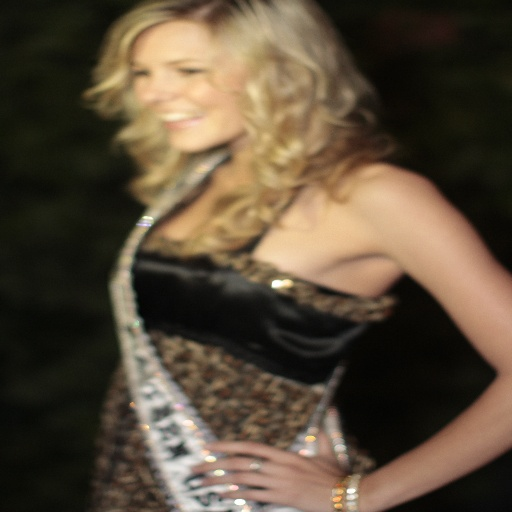hand: (191, 442, 362, 500)
